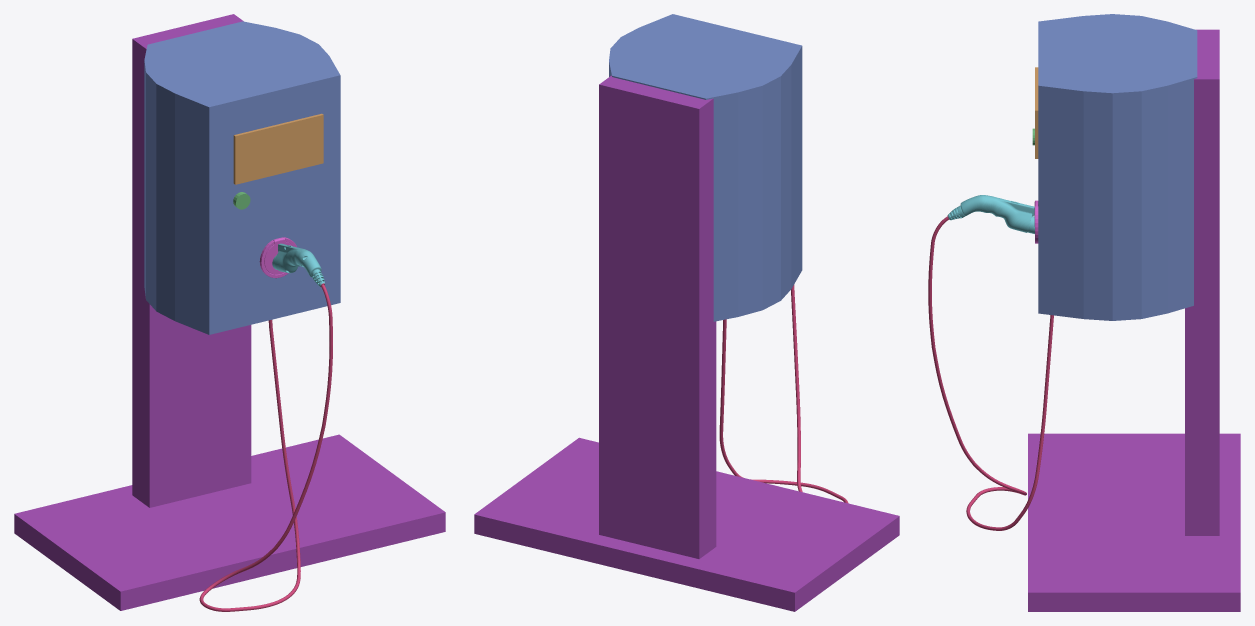
The picture shows the model from 3 angles, left to right: view 1: azimuth 30°, elevation 25°; view 2: azimuth 150°, elevation 25°; view 3: azimuth 270°, elevation 25°; orthographic projection.
Parts seen in each view (by area): view 1: pred_mesh_gc.ply; view 2: pred_mesh_gc.ply; view 3: pred_mesh_gc.ply.
Boxes of the visible parts, <box> form: pred_mesh_gc.ply: <box>14,14,445,611</box>; pred_mesh_gc.ply: <box>474,14,899,611</box>; pred_mesh_gc.ply: <box>928,14,1240,611</box>.
Bounding box in the file's own units: 0.5212 × 0.7352 × 0.4335.
